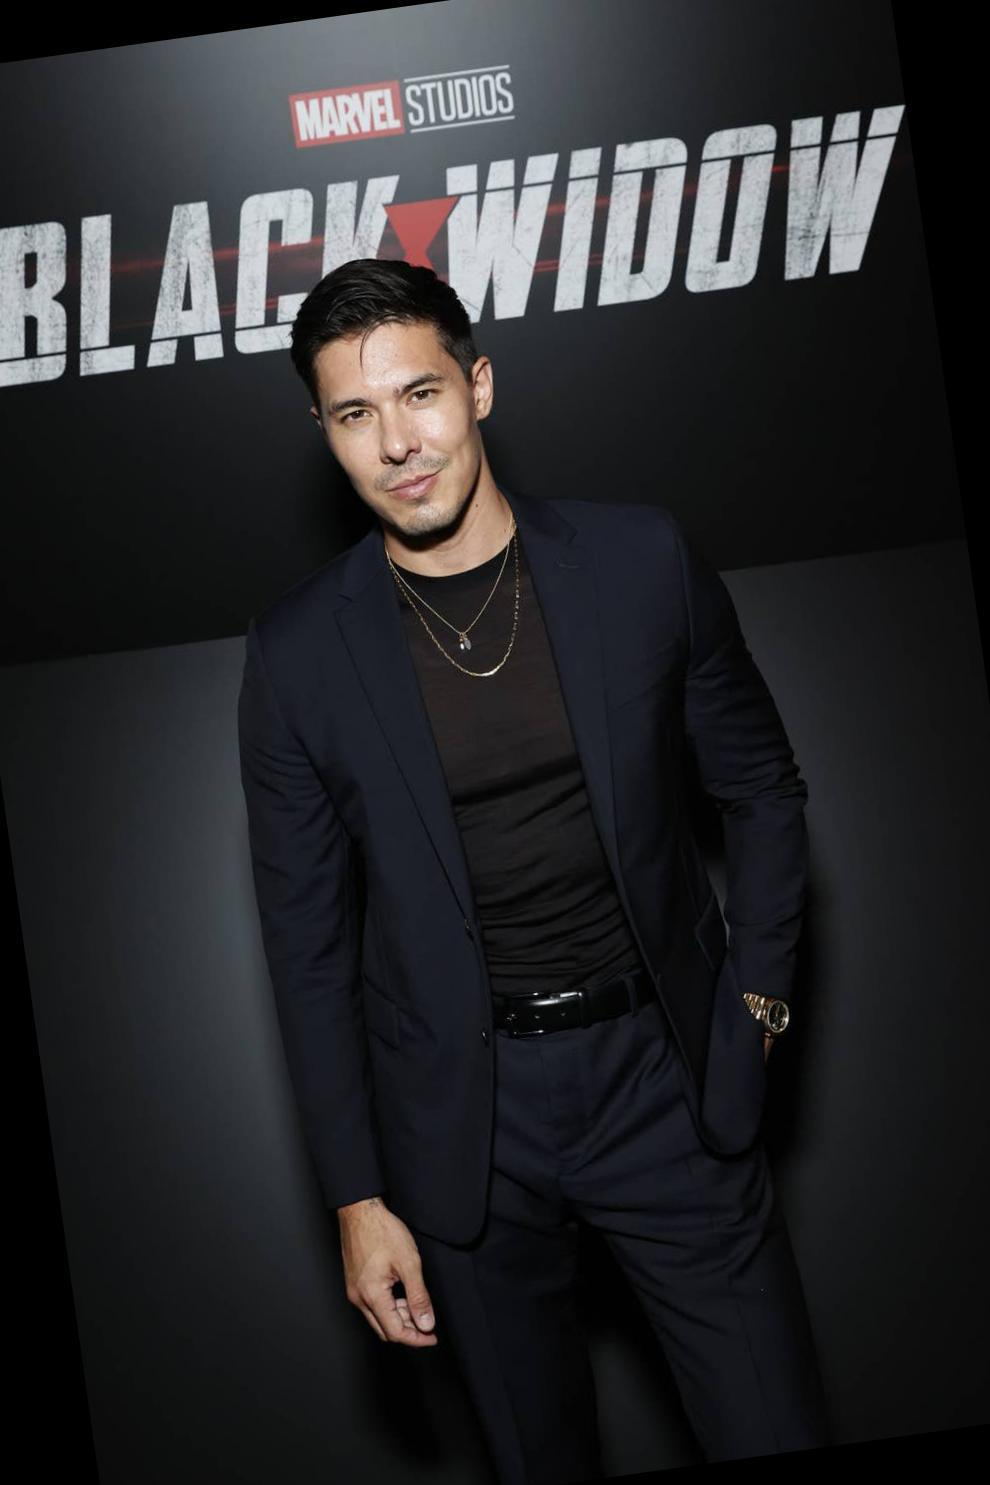Sober: (328, 341, 476, 520)
